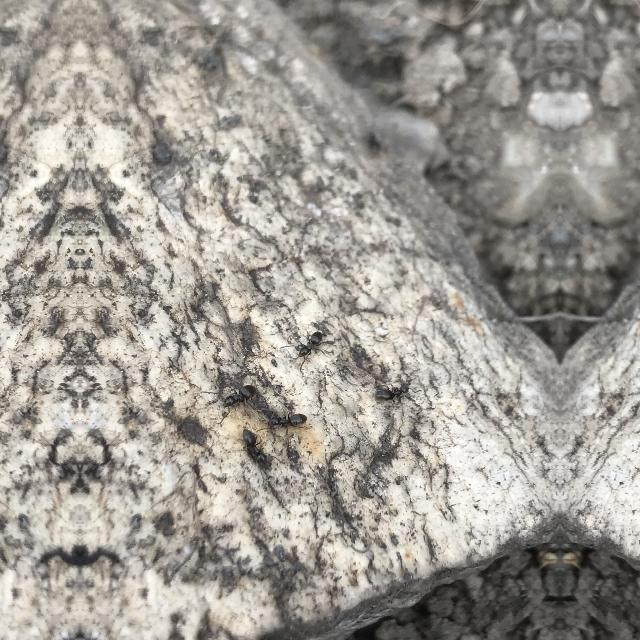Tapinoma: (370, 370, 416, 410), (218, 371, 260, 413), (238, 422, 272, 472), (264, 402, 310, 438), (290, 324, 326, 366)
